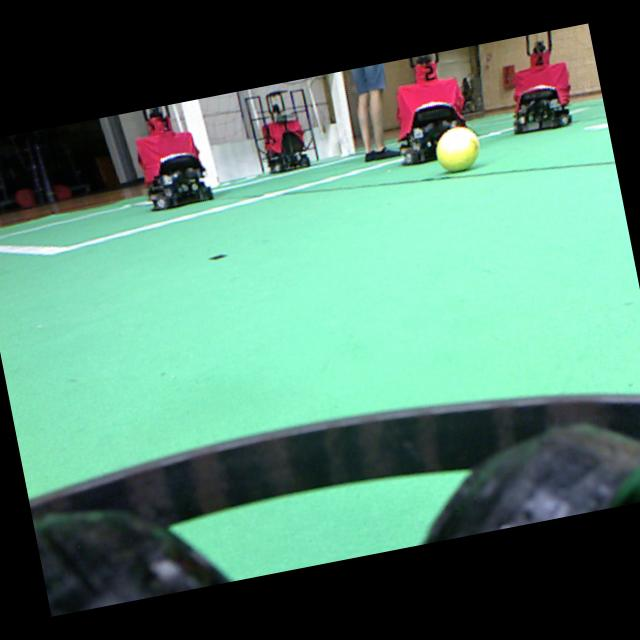ball: (436, 127, 479, 171)
goal: (181, 99, 218, 186), (329, 72, 355, 155)
